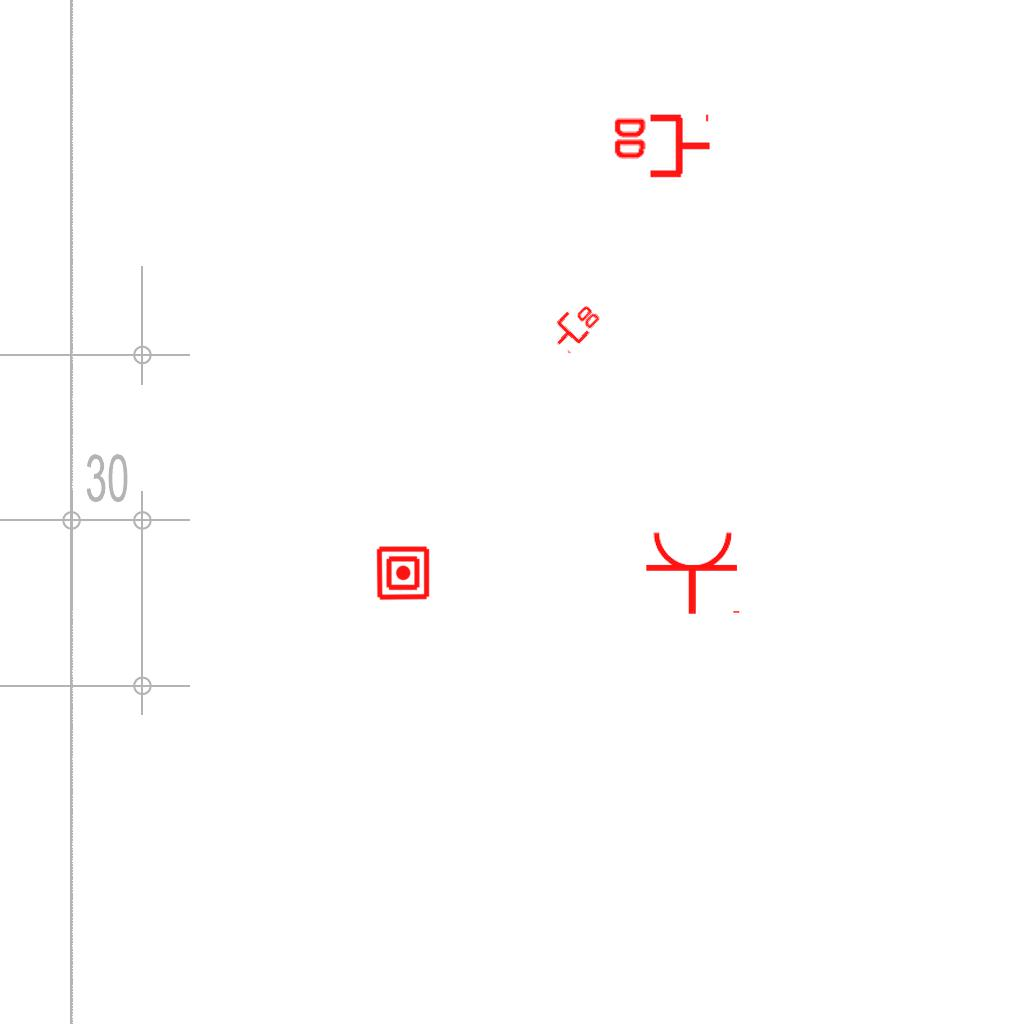Datenanschluss_zweifach: (610, 113, 713, 182), (544, 295, 604, 356)
NAM-Nichtautomatischer_Melder: (375, 545, 431, 601)
Schukosteckdose_einfach: (644, 529, 744, 616)
